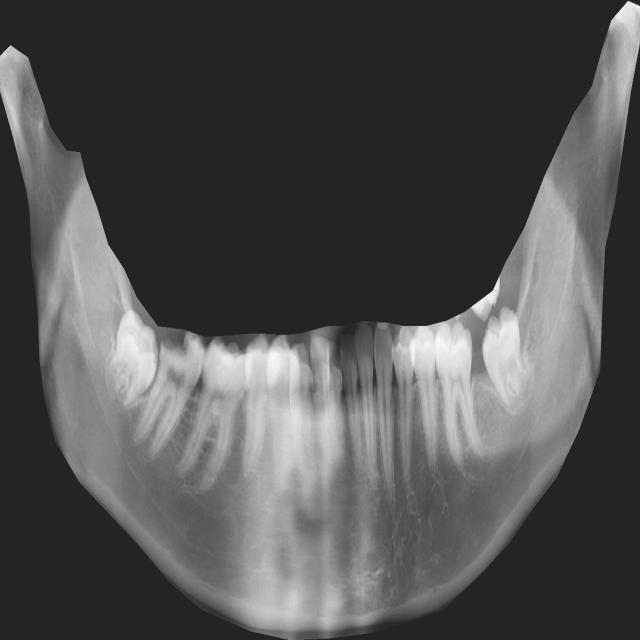mandibula: (0, 1, 640, 640)
